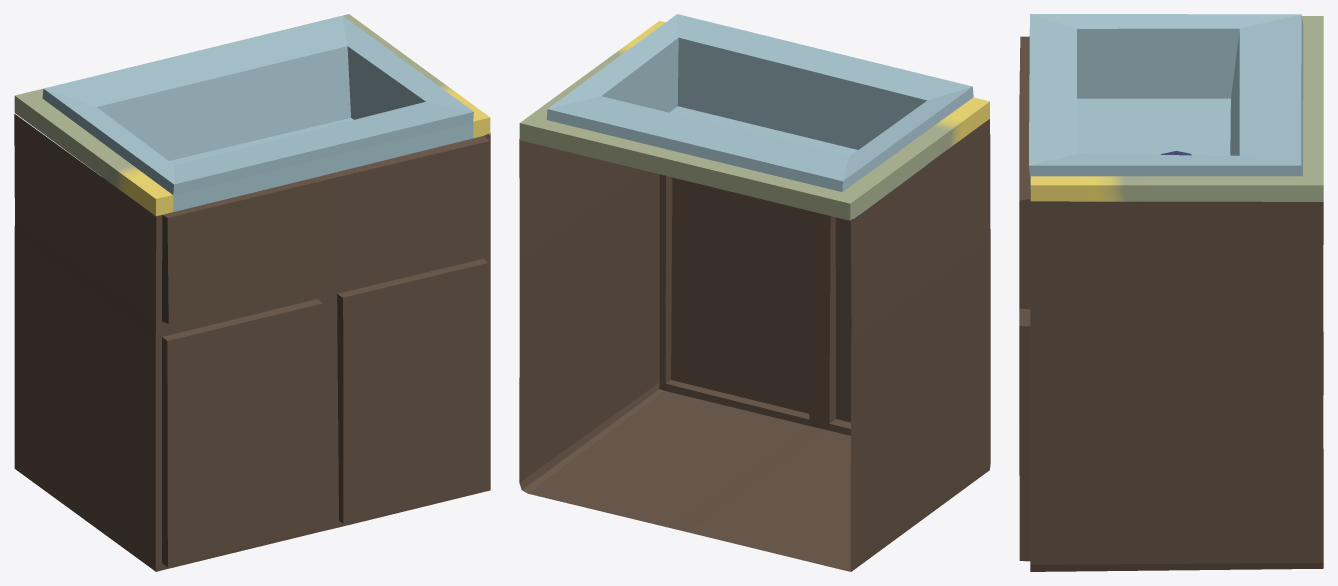
Rendered from Kitchen_2_Cabinet.fbx.
3 views of the same model, side by side, from view 1: azimuth 30°, elevation 25°; view 2: azimuth 150°, elevation 25°; view 3: azimuth 270°, elevation 25° (orthographic). The views are drawn at different scales.
Visible parts, largest first — view 1: Kitchen_2_Cabinet; view 2: Kitchen_2_Cabinet; view 3: Kitchen_2_Cabinet.
Boxes of the visible parts, <box> form: Kitchen_2_Cabinet: <box>14,14,490,571</box>; Kitchen_2_Cabinet: <box>519,14,990,571</box>; Kitchen_2_Cabinet: <box>1019,14,1323,571</box>.
Size of the model in its own units: 121 by 132 by 91.64.
